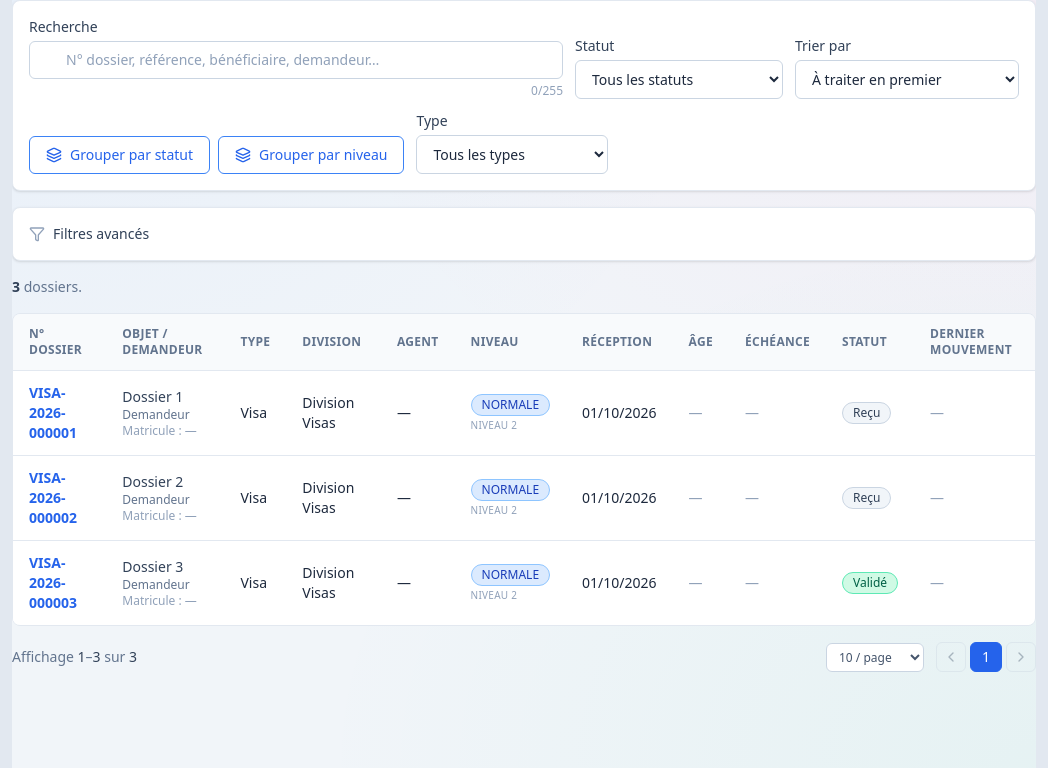
Scenario: Liste des dossiers — regroupement par statut › affiche une section par statut, avec son effectif
Expected: the link "VISA-2026-000001" is shown, [29,383,77,442]
Click the button "Grouper par statut" at coordinates (120, 155), box [29,136,210,174]
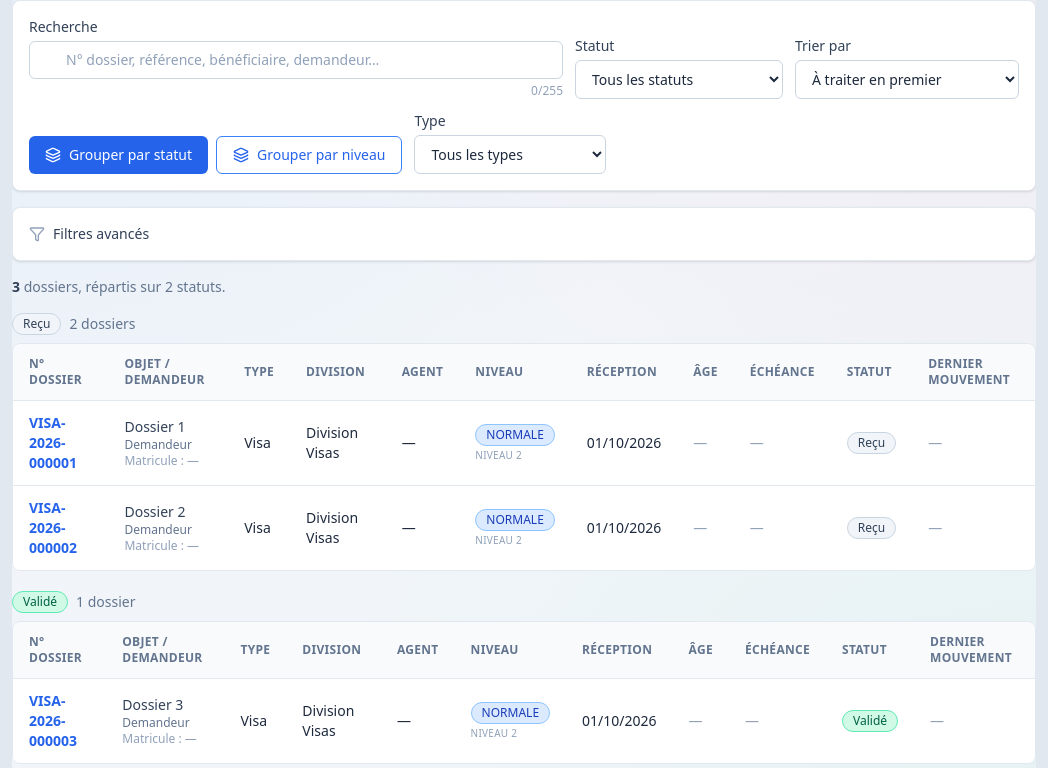
Expected: the element named "Dossiers Reçu" is shown, [12,313,1036,571]
Expected: the element named "Dossiers Validé" is shown, [12,591,1036,764]
Expected: the text "2 dossiers" is shown, [69,314,136,334]
